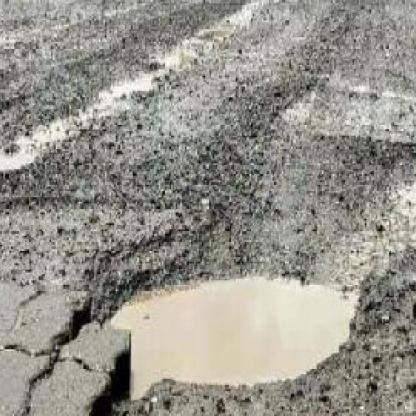pothole: (59, 258, 363, 407)
